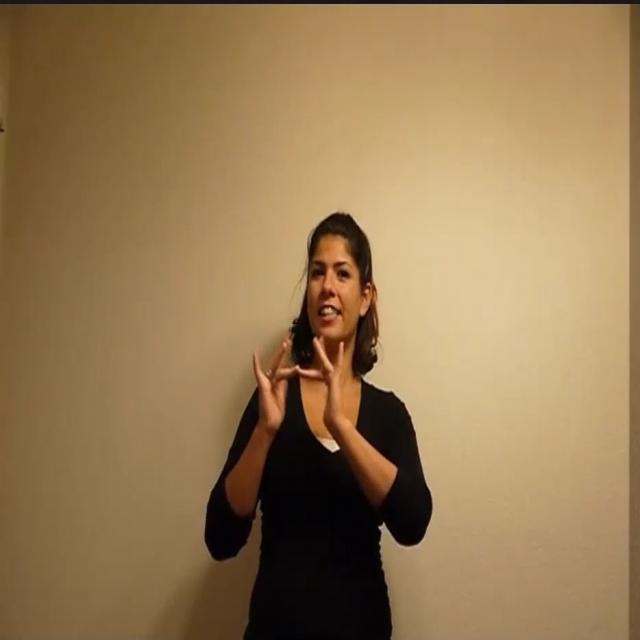Internet: (201, 208, 439, 640)
